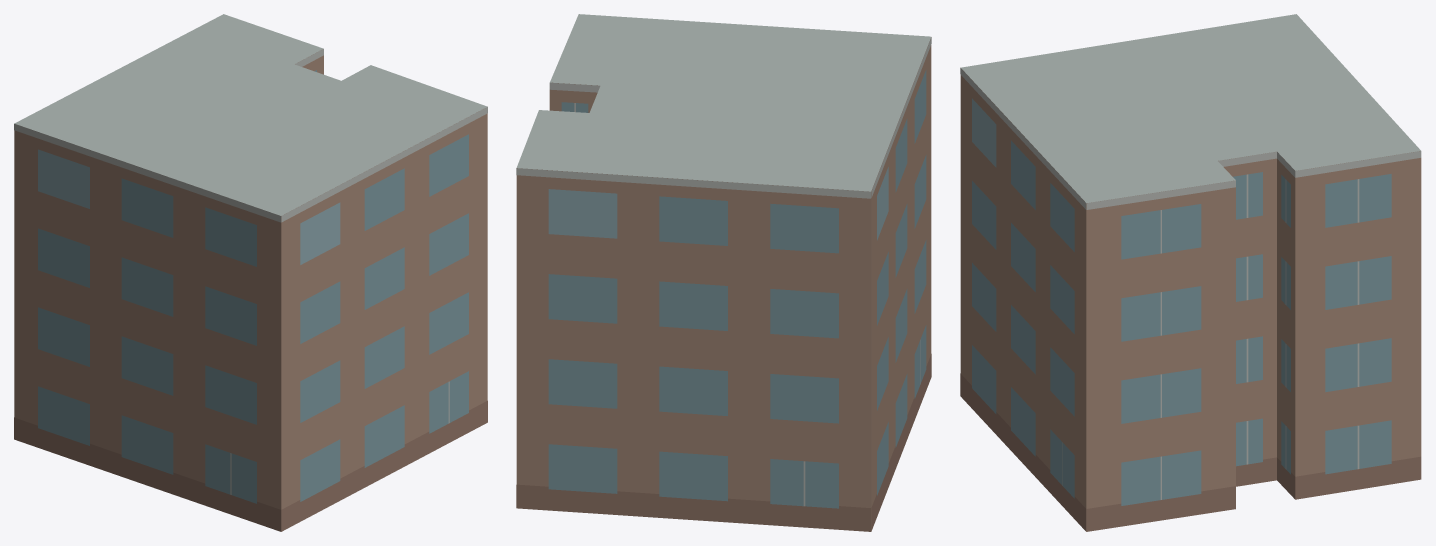
Rendered from survey-upis-32830659.glb.
3 renders of one model, left to right at view 1: azimuth 30°, elevation 25°; view 2: azimuth 150°, elevation 25°; view 3: azimuth 270°, elevation 25°, orthographic. The views are drawn at different scales.
Visible parts, largest first — view 1: survey-upis-32830659.tmp; view 2: survey-upis-32830659.tmp; view 3: survey-upis-32830659.tmp.
Part boxes in pixels (box(x1,y1,x2,y2)): survey-upis-32830659.tmp: box(14, 14, 487, 531); survey-upis-32830659.tmp: box(516, 14, 931, 531); survey-upis-32830659.tmp: box(960, 14, 1421, 531).
Bounding box in the file's own units: 14.33 × 11.6 × 14.75.
